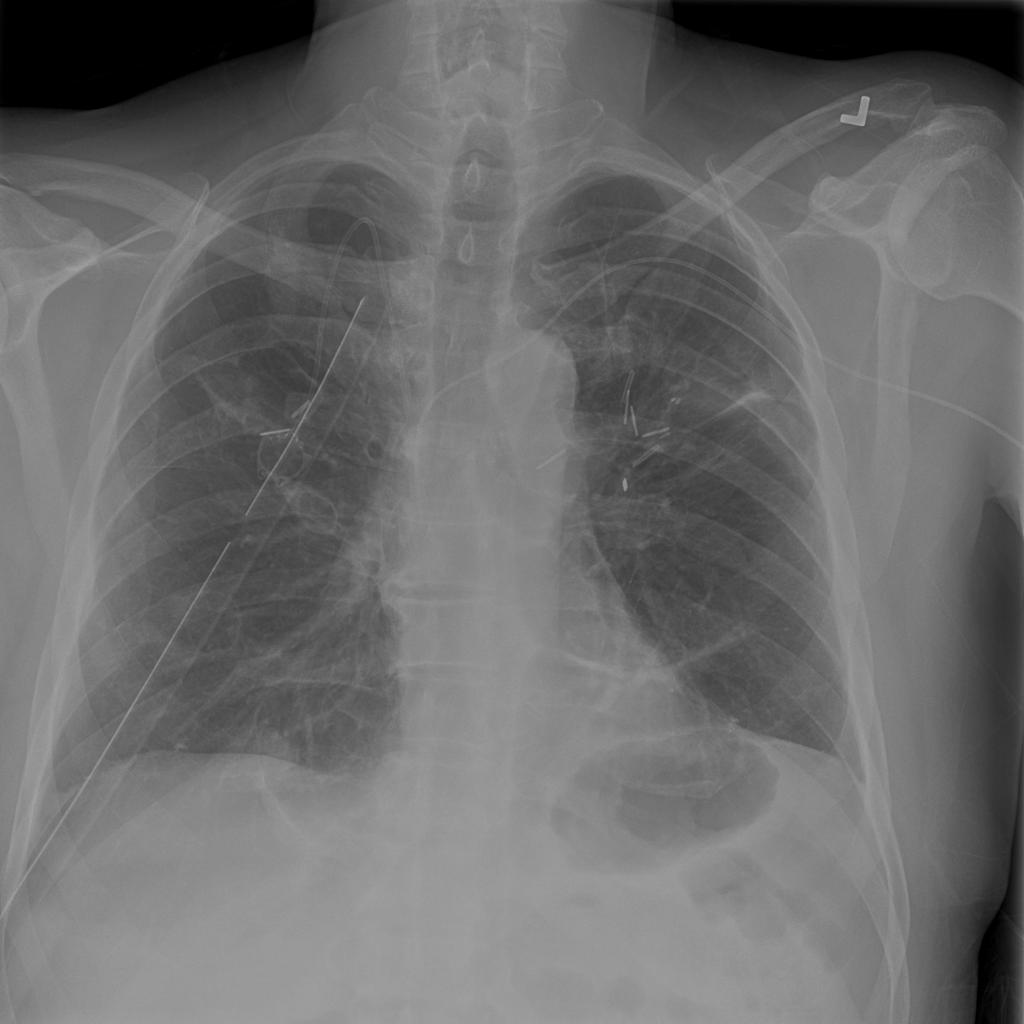nodule: (353, 725, 448, 866), (206, 705, 317, 811)
